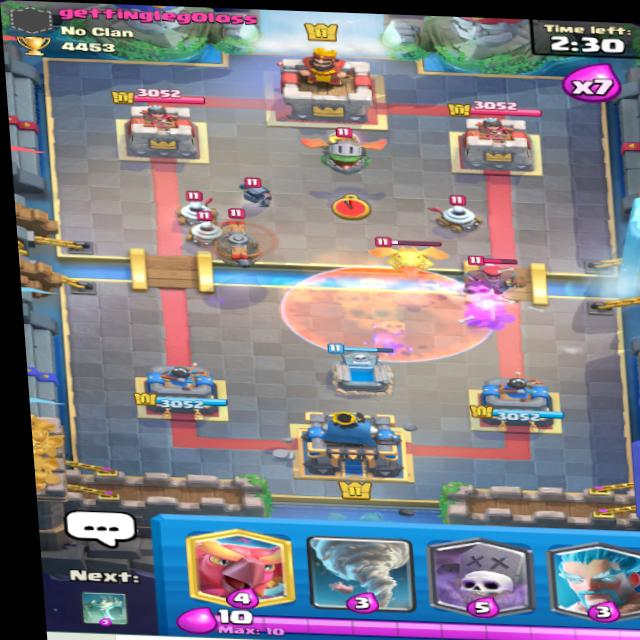baby-dragon: (369, 234, 458, 276)
flying-machine: (185, 205, 296, 268)
hunter: (452, 248, 528, 296)
inferno-dragon: (304, 123, 395, 177)
mini-pekka: (230, 172, 307, 214)
zappie: (429, 193, 484, 233), (179, 211, 234, 247), (172, 185, 223, 221)
